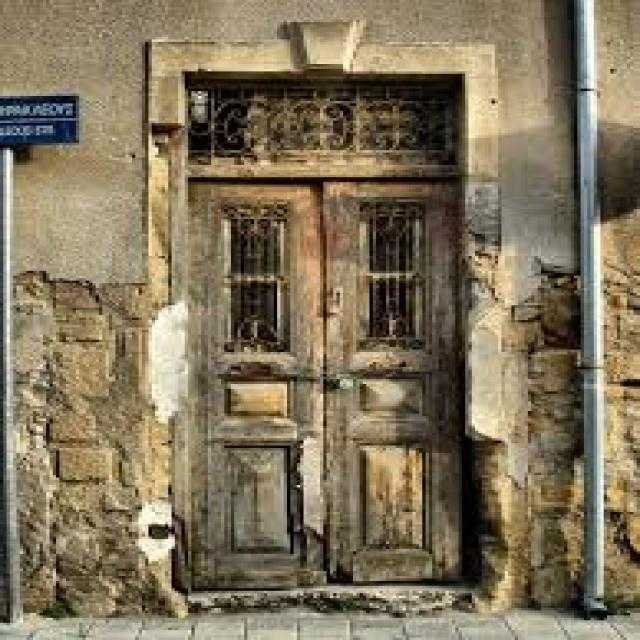Door: (184, 84, 476, 590)
